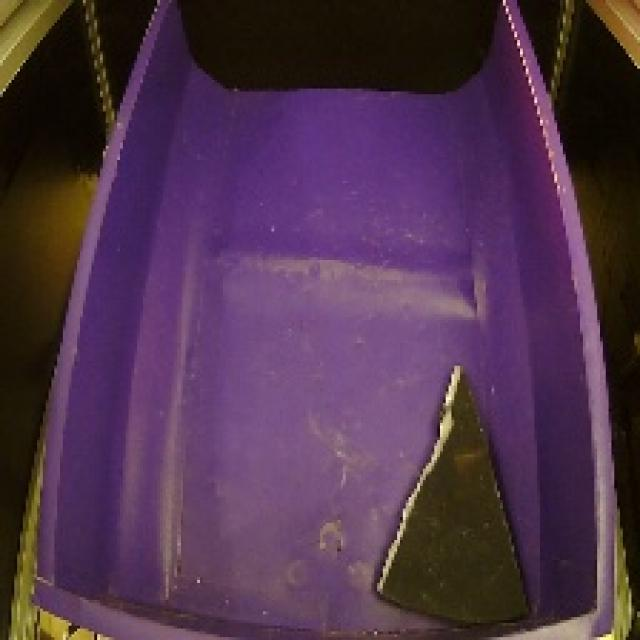china: (366, 354, 541, 633)
